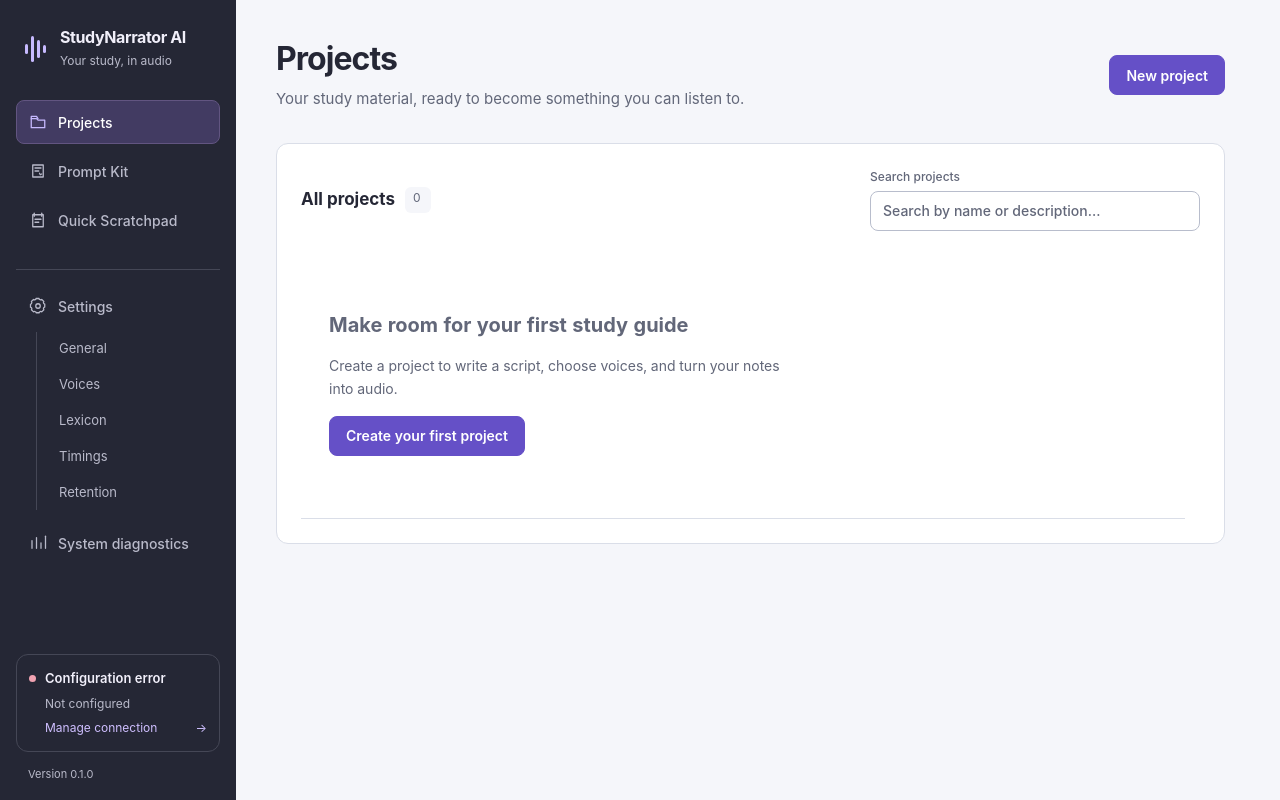
Test: application routing › navigates directly to system diagnostics
Click the link "System diagnostics".
click(109, 543)  # box [29, 534, 189, 552]
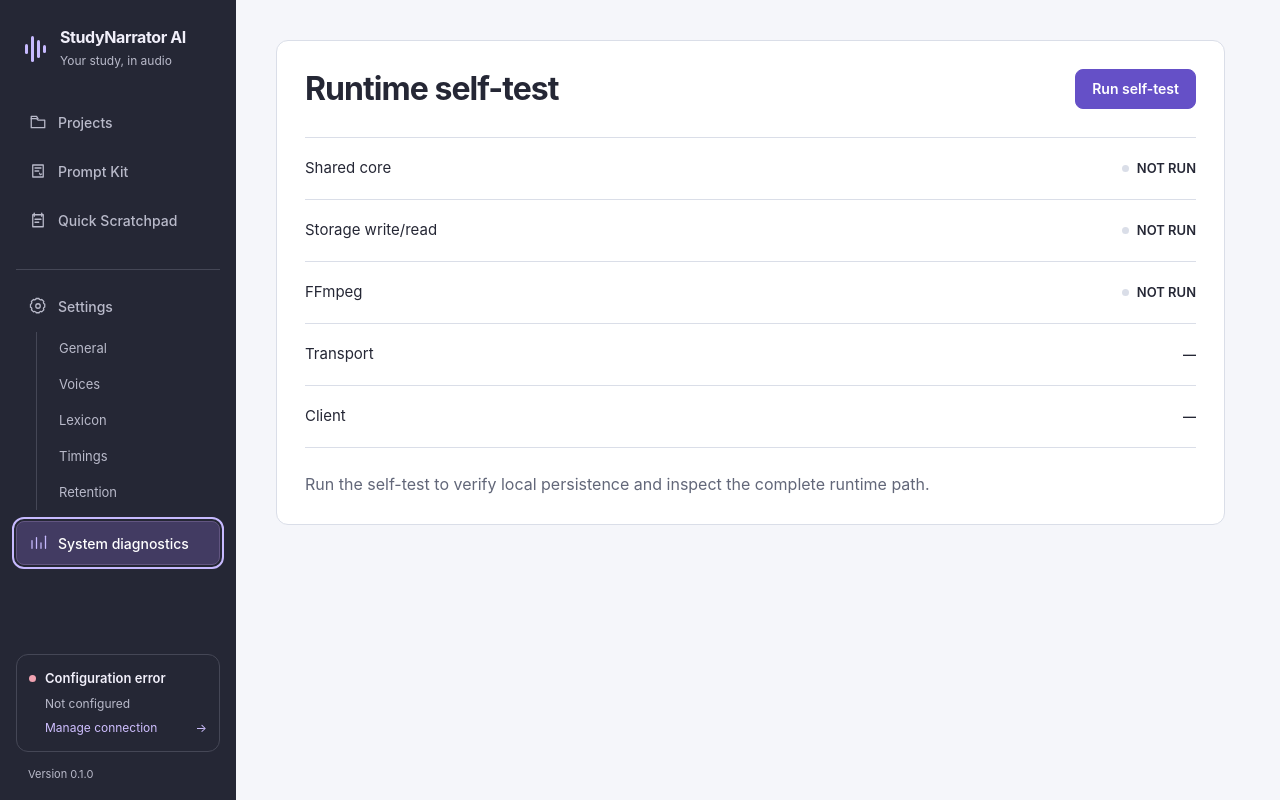
Expected: the heading "Runtime self-test" is shown, [305, 69, 559, 109]
